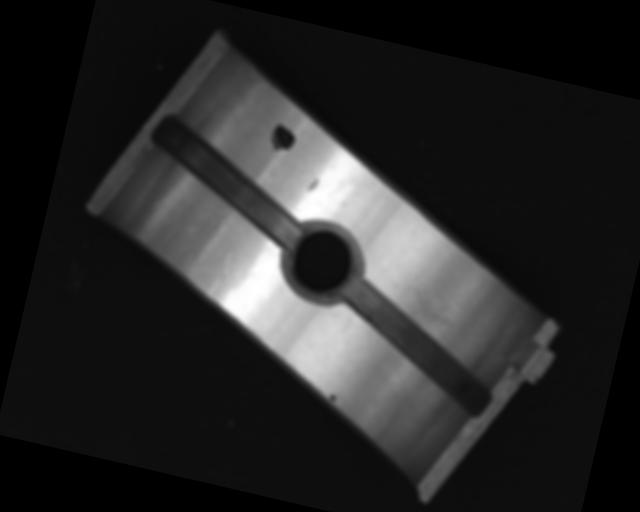blot: (267, 121, 299, 155), (327, 391, 339, 404)
bruise: (204, 247, 237, 301), (306, 175, 318, 193)
gap: (322, 276, 509, 417), (137, 113, 318, 247)
hole: (277, 214, 368, 310)
scratch: (388, 269, 483, 338)
